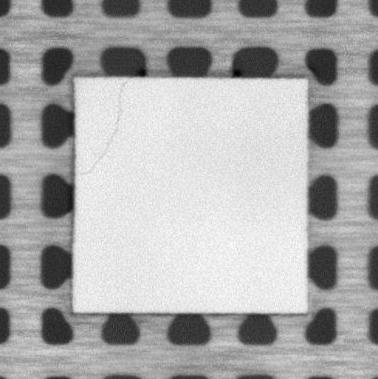DIE_CRACK: (79, 80, 127, 175)
